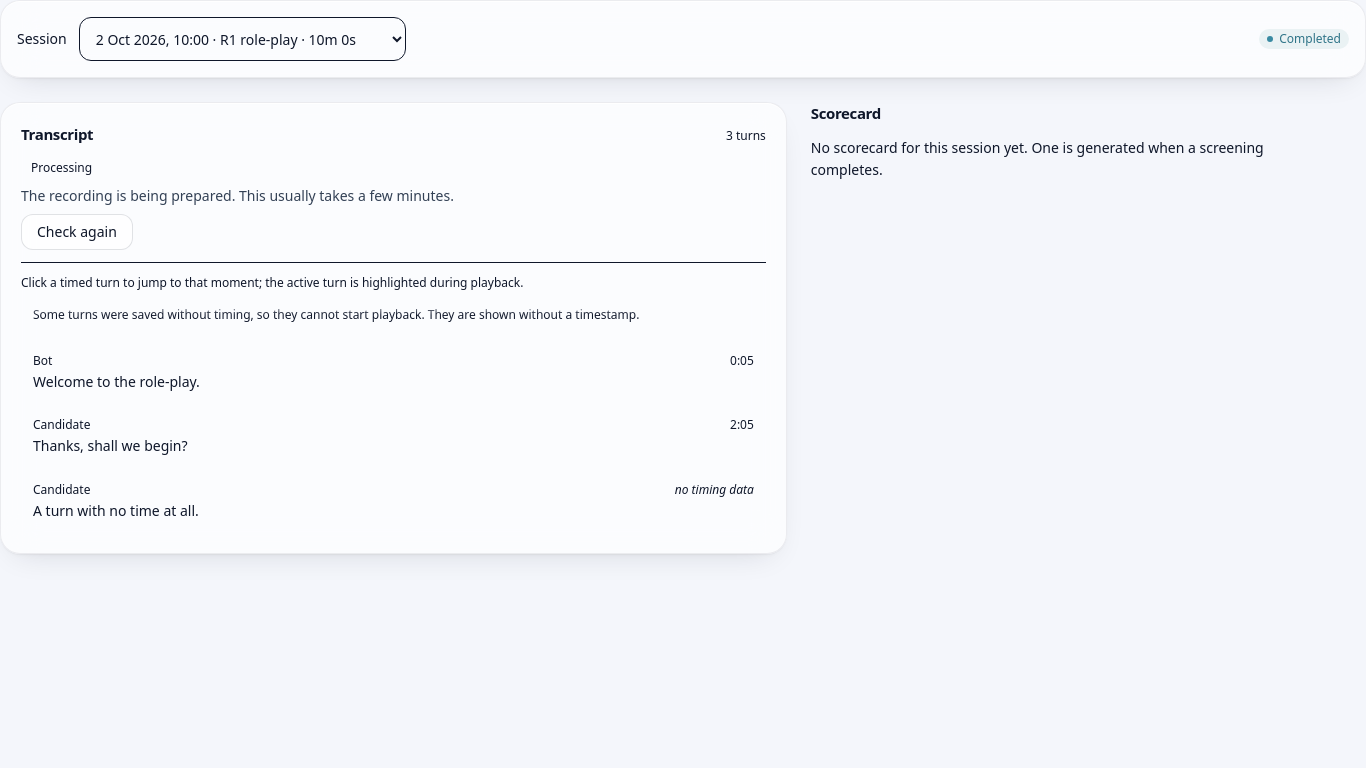
Test case: an R1 session on the Review tab › "Check again" re-reads the rounds and offers Load once it is ready
Step 1. Click the button "Check again" → [77, 232], box left=21, top=214, right=133, bottom=250
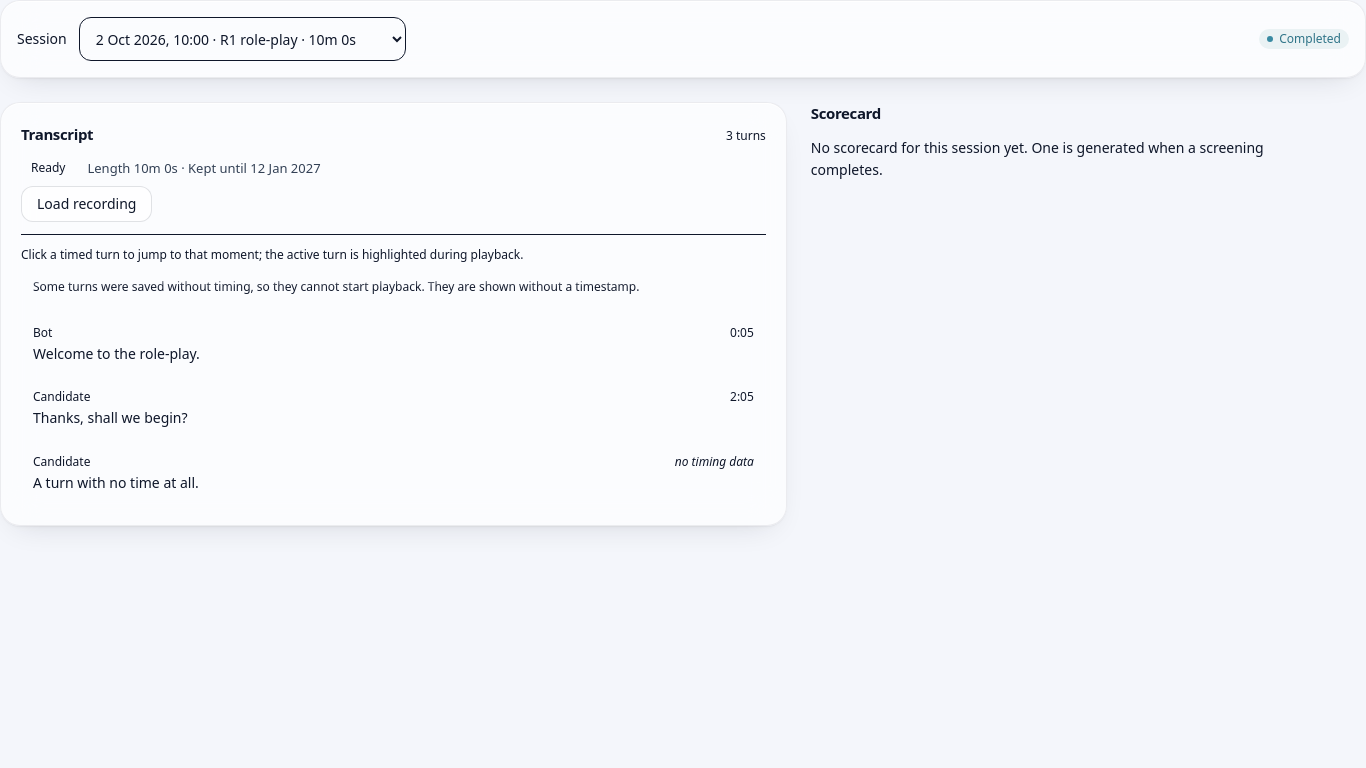
Check: the button "Load recording" is shown, box left=21, top=186, right=152, bottom=222
